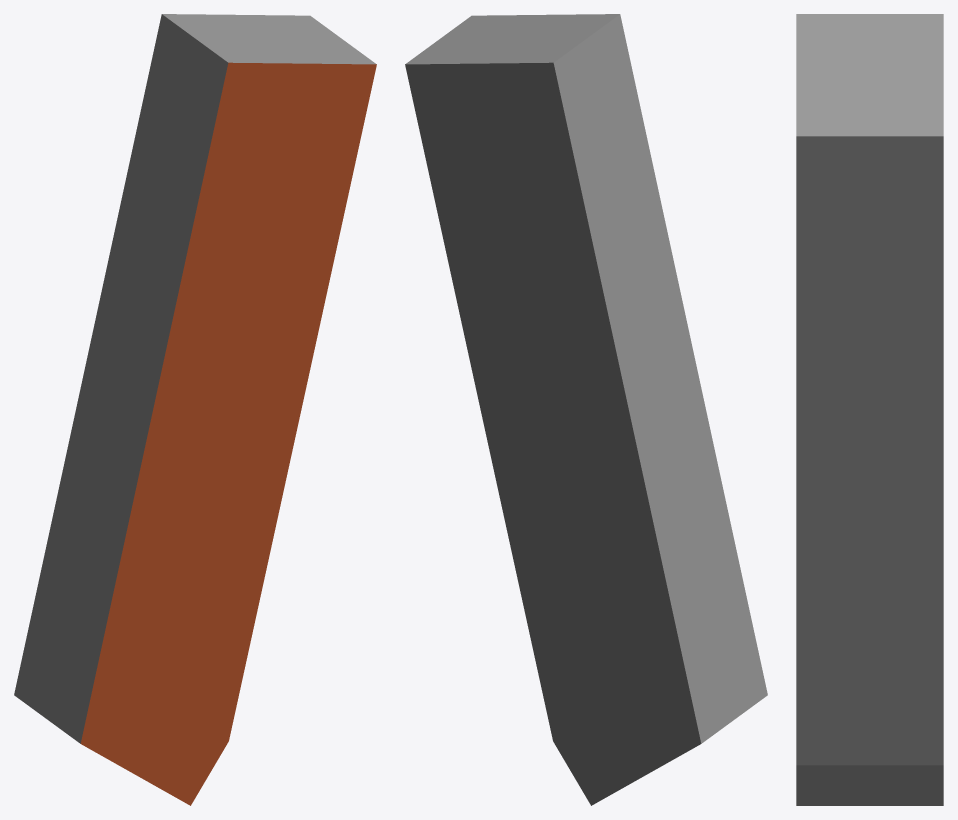
File: construction_4209_assumed_A_Casa_h6m.obj
3 views of the same model, side by side, from view 1: azimuth 30°, elevation 25°; view 2: azimuth 150°, elevation 25°; view 3: azimuth 270°, elevation 25° (orthographic). The views are drawn at different scales.
Visible parts, largest first — view 1: construction_4209_assumed_A_Casa; view 2: construction_4209_assumed_A_Casa; view 3: construction_4209_assumed_A_Casa.
Part boxes in pixels (left/top/right/bottom): construction_4209_assumed_A_Casa: left=14, top=14, right=376, bottom=805; construction_4209_assumed_A_Casa: left=405, top=14, right=767, bottom=805; construction_4209_assumed_A_Casa: left=796, top=14, right=943, bottom=805.
Size of the model in its own units: 15.4 by 36.46 by 6.
